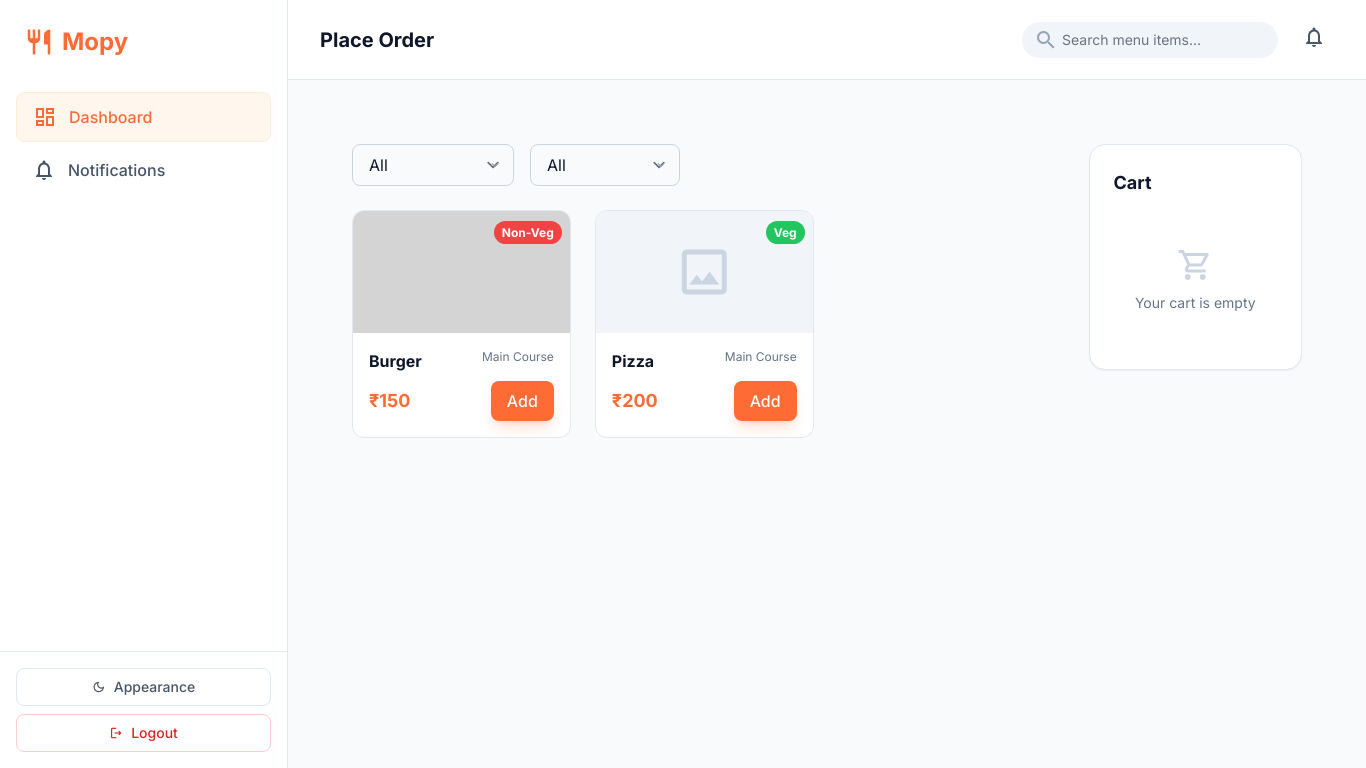
OrderPlacement Component › should filter menu items by food type
Expected: the heading "Burger" is shown, left=369, top=349, right=422, bottom=373
Select "Veg" in the 2nd dropdown at (605, 165), box left=530, top=144, right=680, bottom=186
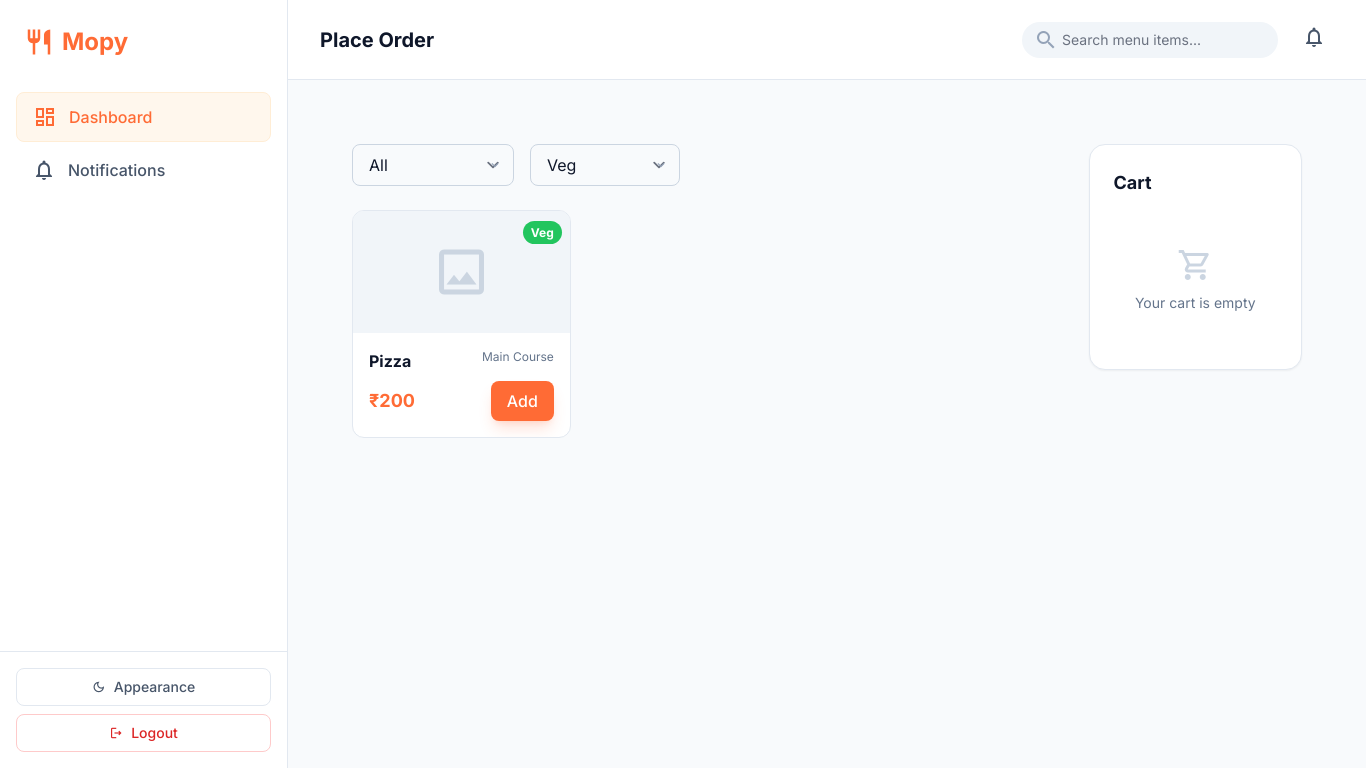
Expected: the heading "Pizza" is shown, left=369, top=349, right=411, bottom=373
Result: the heading "Burger" is gone
